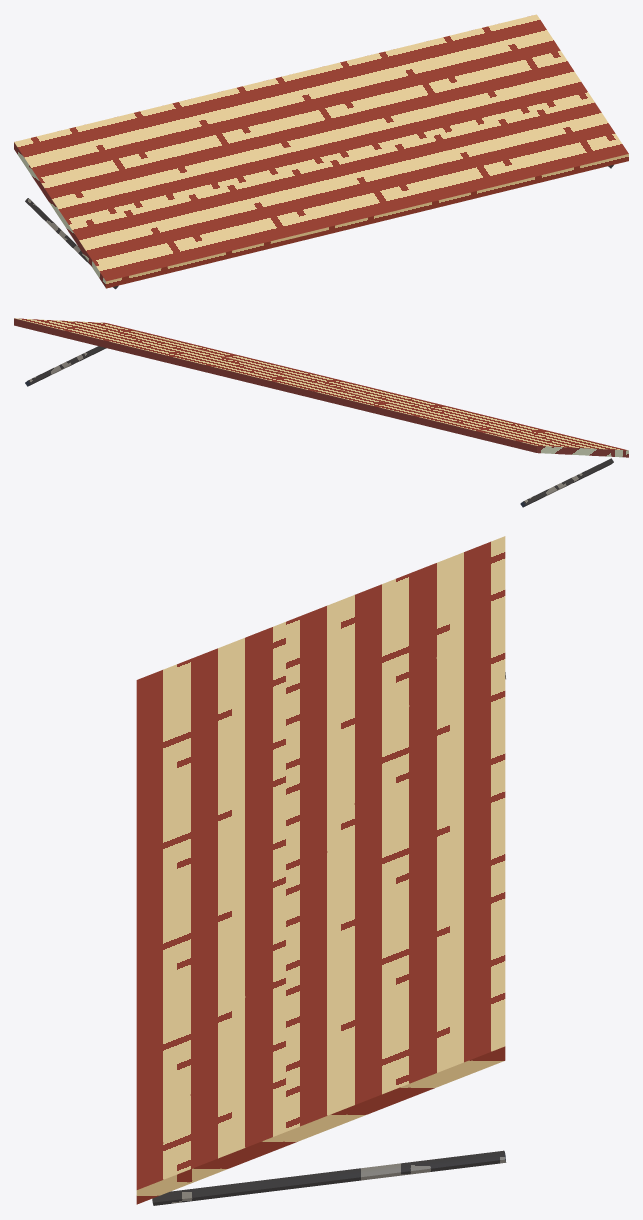
File: wtown.porch__canvas.glb
3 renders of one model, top to bottom at view 1: azimuth 30°, elevation 25°; view 2: azimuth 150°, elevation 25°; view 3: azimuth 270°, elevation 25°, orthographic. The views are drawn at different scales.
Visible parts, largest first — view 1: kit_roof, kit_rods; view 2: kit_roof, kit_rods; view 3: kit_roof, kit_rods.
Boxes of the visible parts, x1,y1,x2,y2 form: kit_roof: [14, 14, 628, 288]; kit_rods: [25, 165, 613, 289]; kit_roof: [14, 318, 628, 457]; kit_rods: [25, 346, 613, 507]; kit_roof: [136, 536, 505, 1204]; kit_rods: [152, 672, 506, 1205].
Bounding box in the file's own units: 3.8 × 0.601 × 1.16.
Materials: 2 (2 with a texture image).
